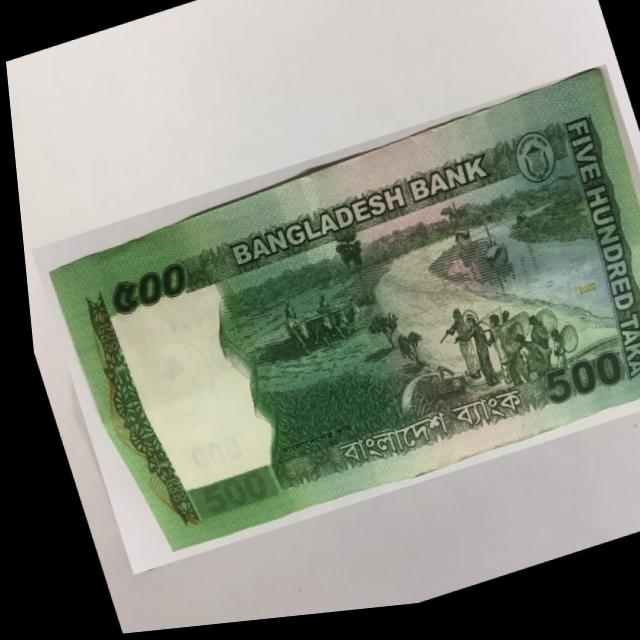Taka: (15, 73, 640, 582)
